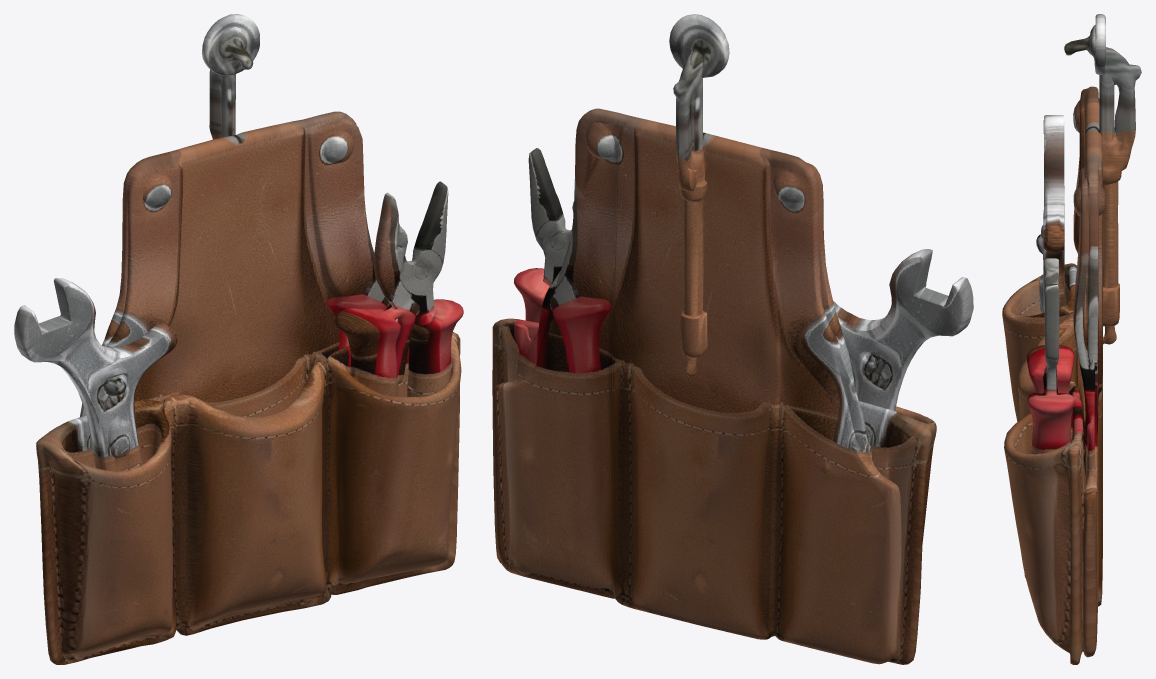
File: cinto-ferramentas.glb
3 views of the same model, side by side, from view 1: azimuth 30°, elevation 25°; view 2: azimuth 150°, elevation 25°; view 3: azimuth 270°, elevation 25° (orthographic). The views are drawn at different scales.
Visible parts, largest first — view 1: cinto-ferramentas; view 2: cinto-ferramentas; view 3: cinto-ferramentas.
Part boxes in pixels (x1,y1,x2,y2): cinto-ferramentas: [14, 14, 463, 664]; cinto-ferramentas: [492, 14, 973, 664]; cinto-ferramentas: [1002, 14, 1141, 664].
Size of the model in its own units: 0.476 by 0.6 by 0.1353.
Materials: 1 (1 with a texture image).
